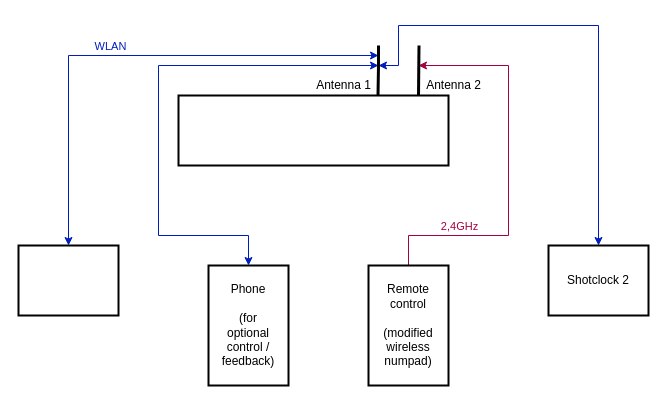
Image size: 666x404. Some labels were removed from this diagram. Each missing label, with the box of its shape:
Scoreboard main display: (177, 94, 449, 166)
Shotclock 1: (17, 244, 119, 316)
